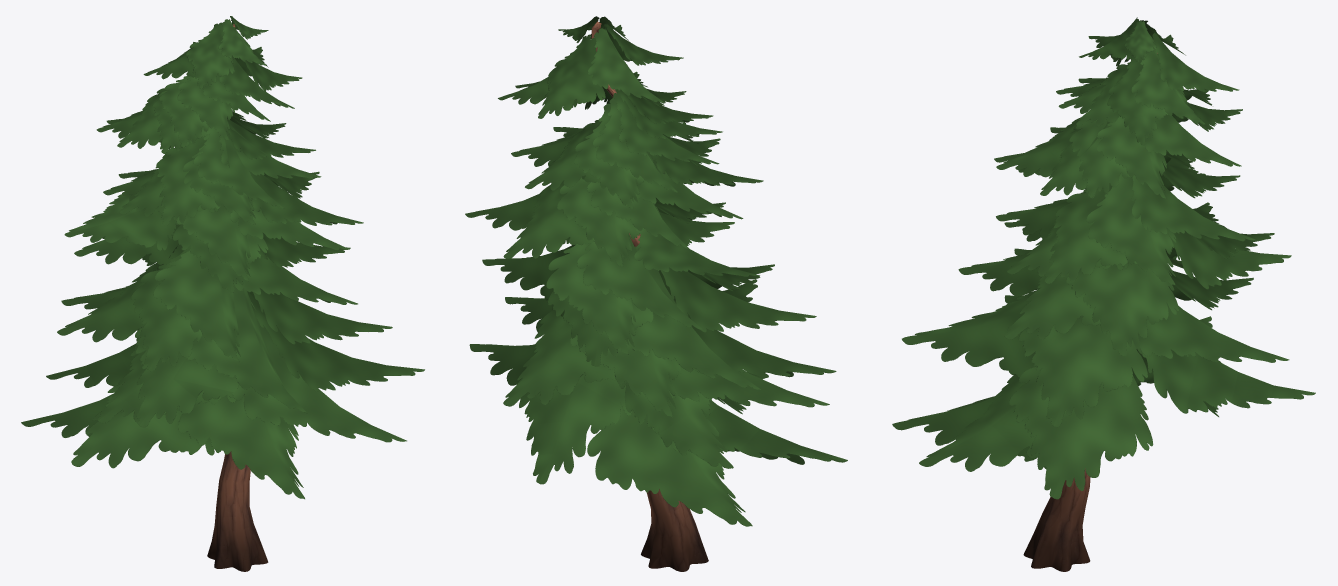
Rendered from Pine_3.glb.
The picture shows the model from 3 angles, left to right: view 1: azimuth 30°, elevation 25°; view 2: azimuth 150°, elevation 25°; view 3: azimuth 270°, elevation 25°; orthographic projection. The views are drawn at different scales.
Visible parts, largest first — view 1: Pine_5; view 2: Pine_5; view 3: Pine_5.
Boxes of the visible parts, <box> form: Pine_5: <box>21,16,424,571</box>; Pine_5: <box>465,16,847,571</box>; Pine_5: <box>892,17,1315,571</box>.
Bounding box in the file's own units: 6.42 × 8.72 × 6.22.
Materials: 2 (2 with a texture image).
